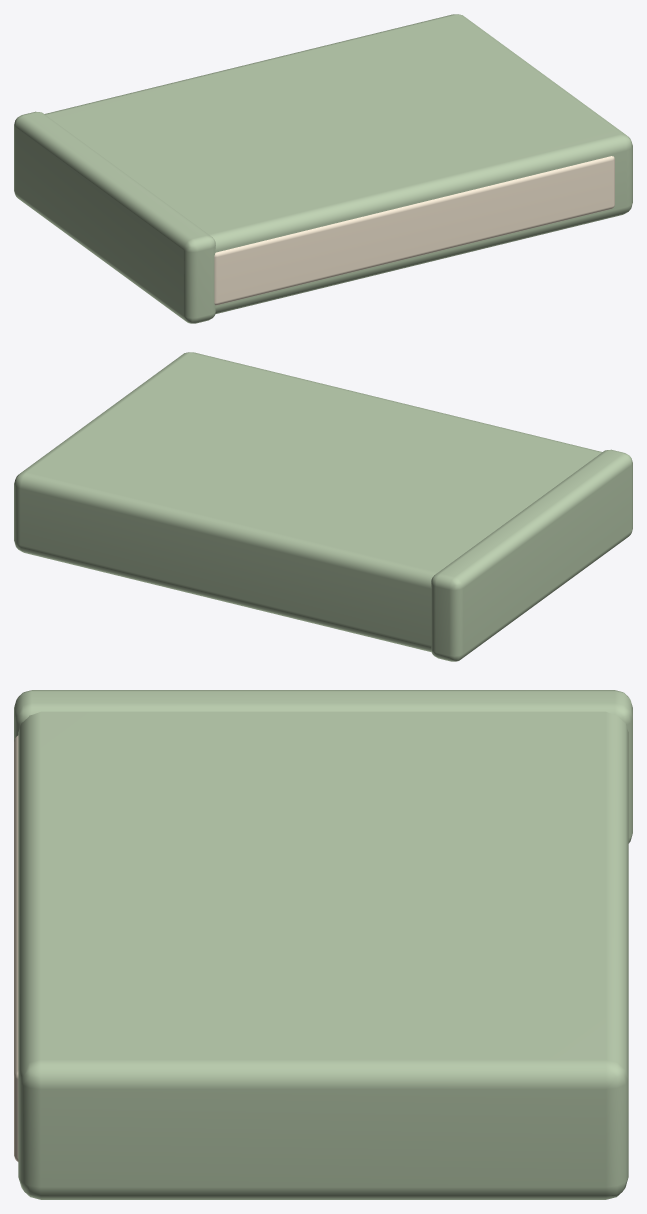
The model's file is livingBook.glb.
3 renders of one model, top to bottom at view 1: azimuth 30°, elevation 25°; view 2: azimuth 150°, elevation 25°; view 3: azimuth 270°, elevation 25°, orthographic. The views are drawn at different scales.
Parts seen in each view (by area): view 1: Book cover, Pages, Spine; view 2: Book cover, Spine; view 3: Book cover, Spine, Pages.
Boxes of the visible parts, x1=… form: Book cover: x1=44, y1=14, x2=632, y2=314; Pages: x1=214, y1=156, x2=614, y2=305; Spine: x1=14, y1=111, x2=215, y2=323; Book cover: x1=14, y1=352, x2=602, y2=652; Spine: x1=431, y1=449, x2=632, y2=661; Book cover: x1=18, y1=711, x2=628, y2=1199; Spine: x1=14, y1=690, x2=632, y2=843; Pages: x1=14, y1=735, x2=18, y2=1161.
Bounding box in the file's own units: 1 × 0.18 × 0.69.
